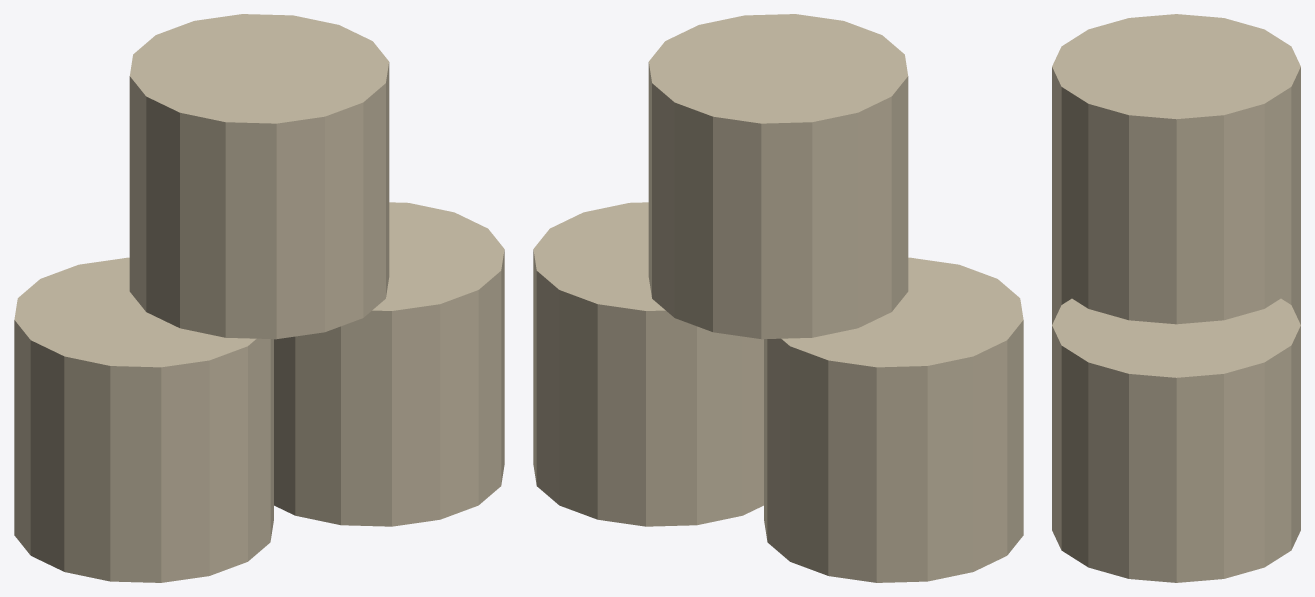
Rendered from toilet-rolls.glb.
The picture shows the model from 3 angles, left to right: view 1: azimuth 30°, elevation 25°; view 2: azimuth 150°, elevation 25°; view 3: azimuth 270°, elevation 25°; orthographic projection. The views are drawn at different scales.
Parts seen in each view (by area): view 1: paper; view 2: paper; view 3: paper.
Part boxes in pixels (x1,y1,x2,y2): paper: [14, 14, 504, 582]; paper: [533, 14, 1023, 582]; paper: [1052, 14, 1300, 582].
Size of the model in its own units: 0.222 by 0.2 by 0.11.
